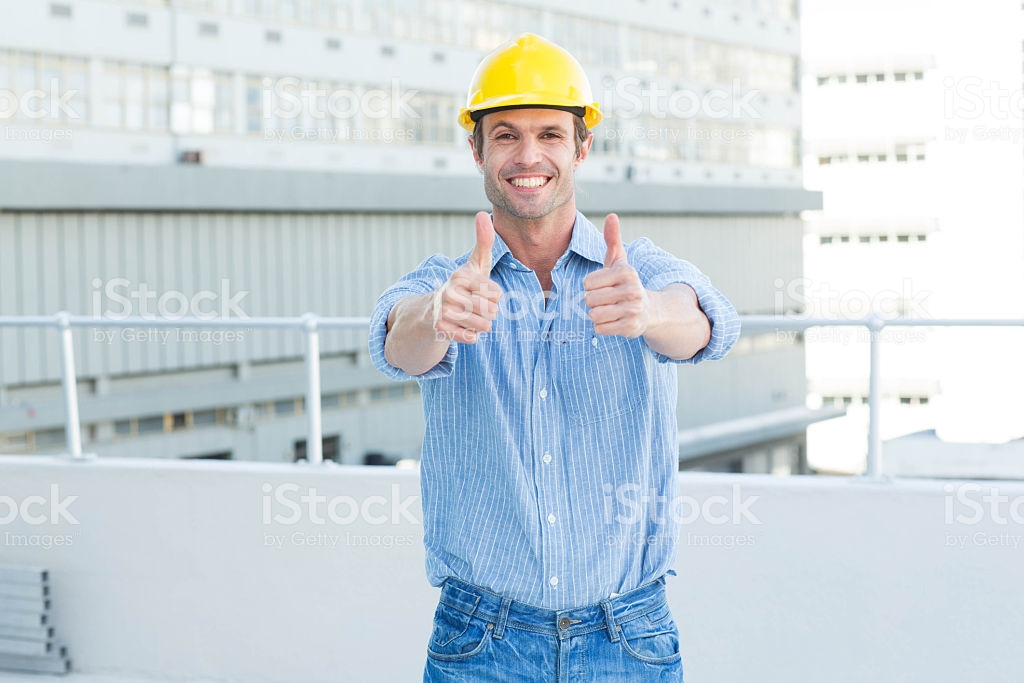thumbsup: (433, 211, 503, 345), (579, 213, 648, 340)
